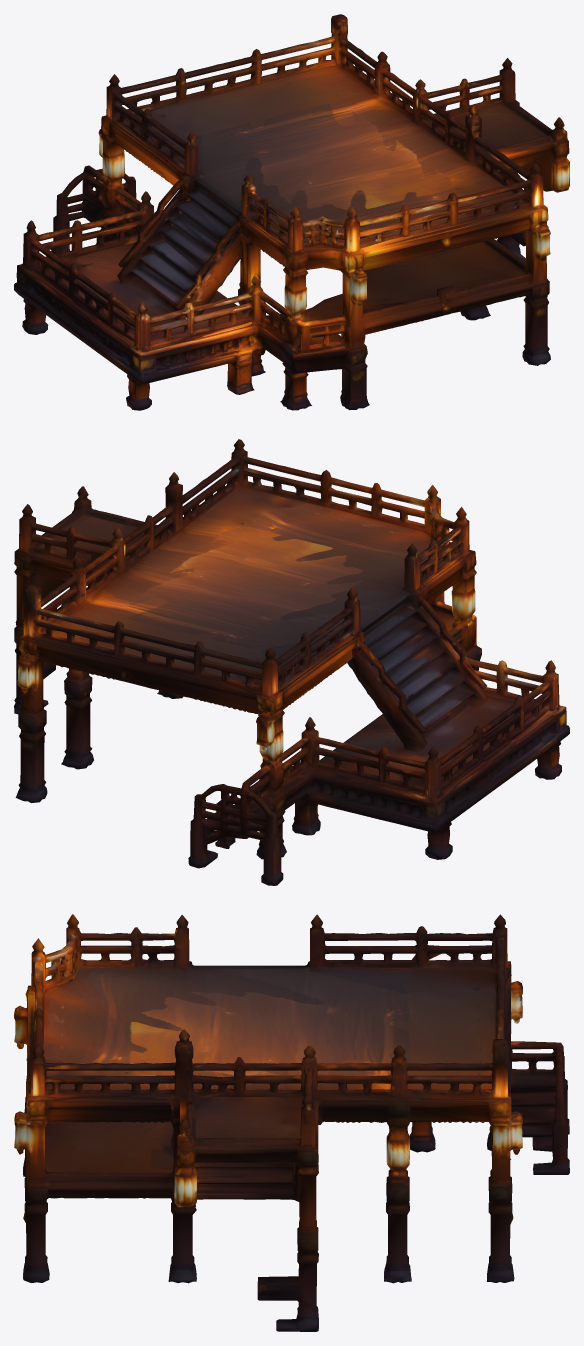
File: DoubleStaresBase_LOD0.fbx
3 views of the same model, one above another, from view 1: azimuth 30°, elevation 25°; view 2: azimuth 150°, elevation 25°; view 3: azimuth 270°, elevation 25° (orthographic). The views are drawn at different scales.
Visible parts, largest first — view 1: DoubleStaresBase_LOD0; view 2: DoubleStaresBase_LOD0; view 3: DoubleStaresBase_LOD0.
Part boxes in pixels (<box>): DoubleStaresBase_LOD0: <box>14,14,569,410</box>; DoubleStaresBase_LOD0: <box>14,439,569,885</box>; DoubleStaresBase_LOD0: <box>14,914,569,1331</box>.
Bounding box in the file's own units: 9.13 × 4.1 × 8.3.
Materials: 1 (1 with a texture image).
